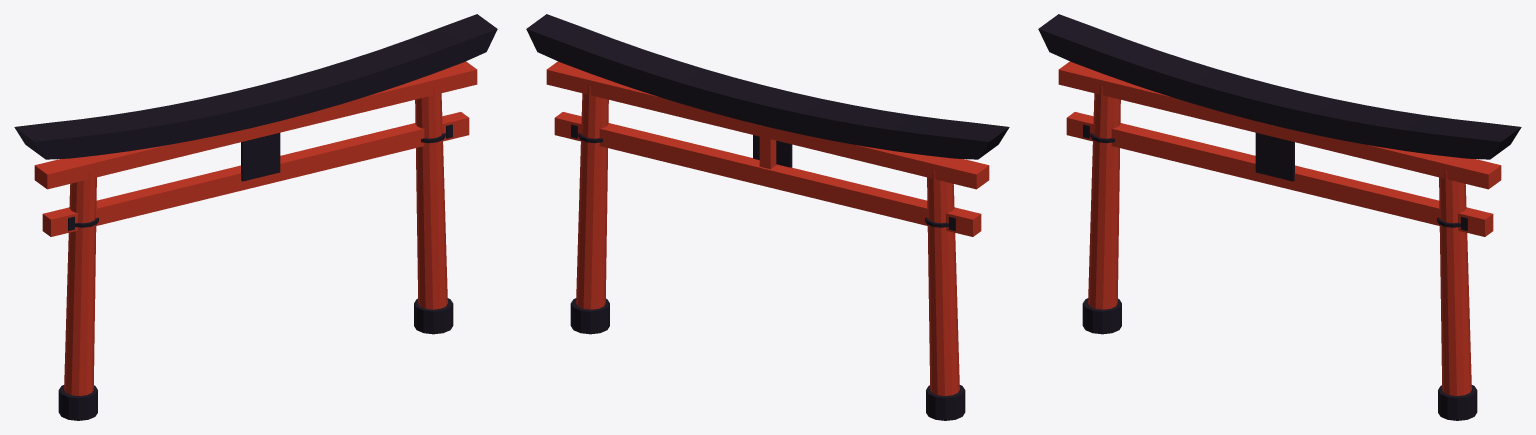
The model's file is torii.glb.
The picture shows the model from 3 angles, left to right: view 1: azimuth 30°, elevation 25°; view 2: azimuth 150°, elevation 25°; view 3: azimuth 330°, elevation 25°; orthographic projection.
Visible parts, largest first — view 1: torii; view 2: torii; view 3: torii.
Boxes of the visible parts, x1,y1,x2,y2 form: torii: (14,14,497,420); torii: (526,14,1009,420); torii: (1038,14,1521,420).
Size of the model in its own units: 11.74 by 7.06 by 0.9.
